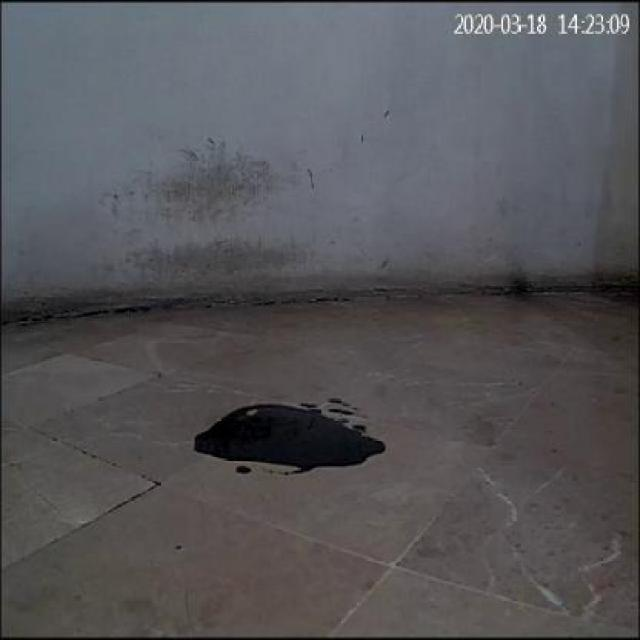spill: (194, 400, 386, 478)
